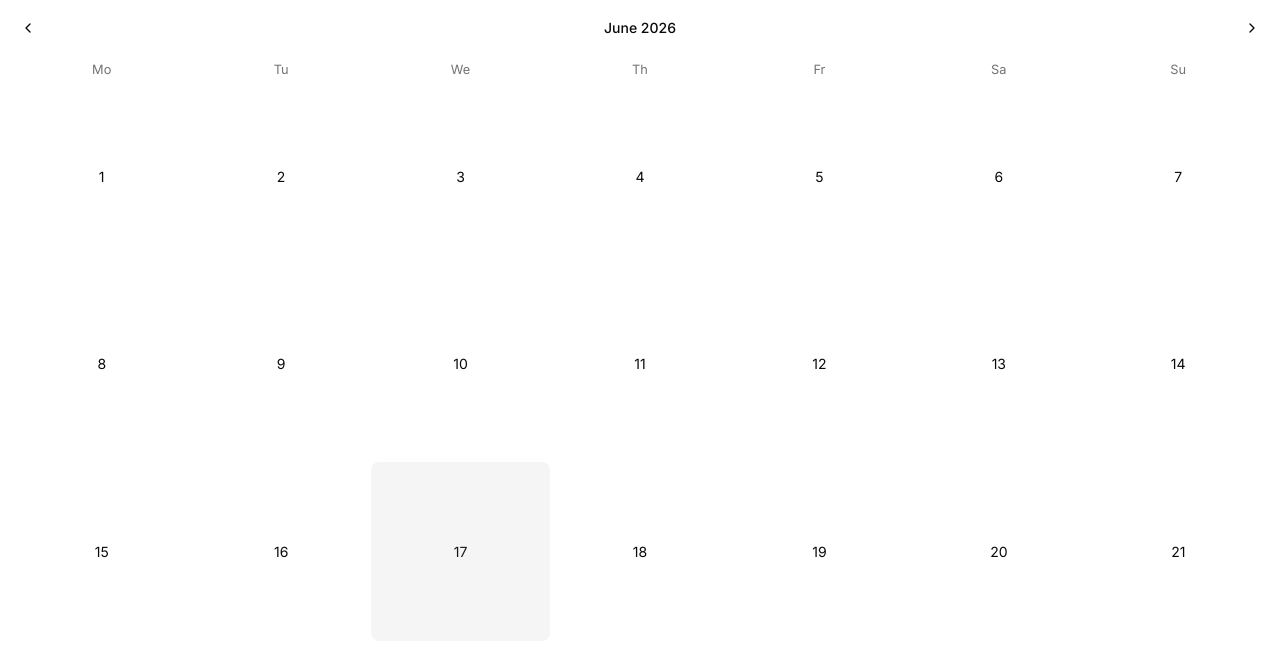
<MonthNavigator /> › navigates months with the labelled prev/next buttons
Click the button named "Previous month". click: (28, 28)
box: [12,12,44,44]
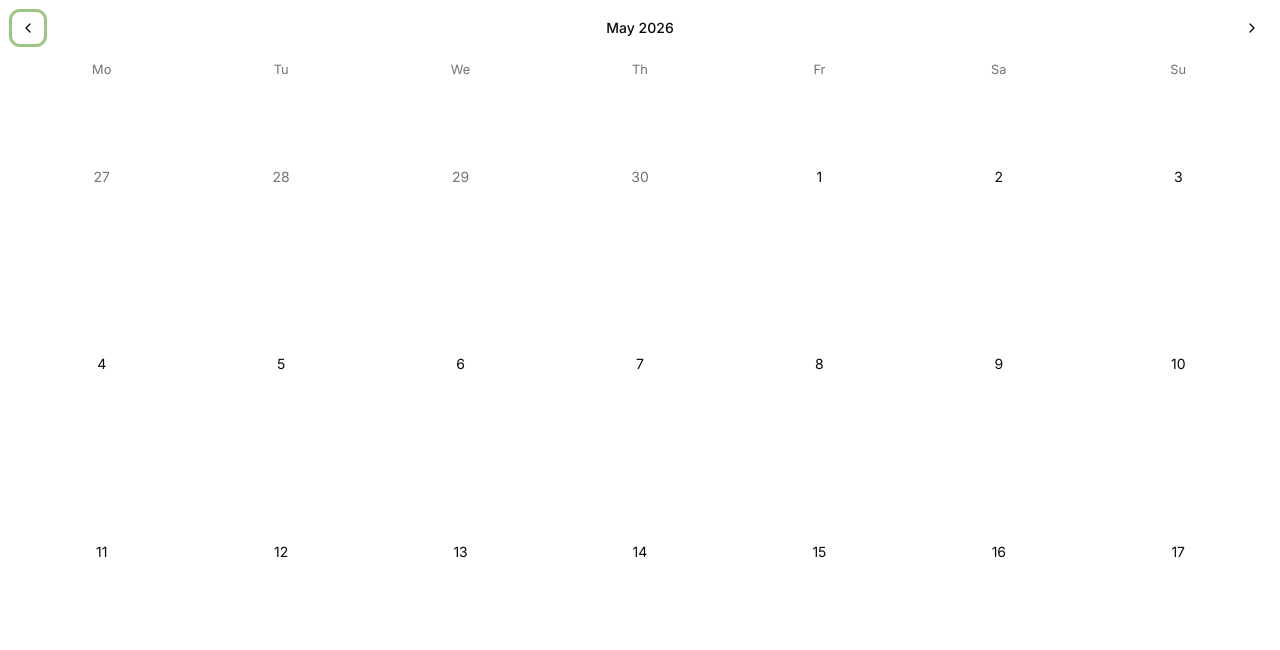
Expected: the heading "May 2026" is shown, [606,18,674,38]
Click the button named "Next month". click: (1252, 28)
box: [1236,12,1268,44]
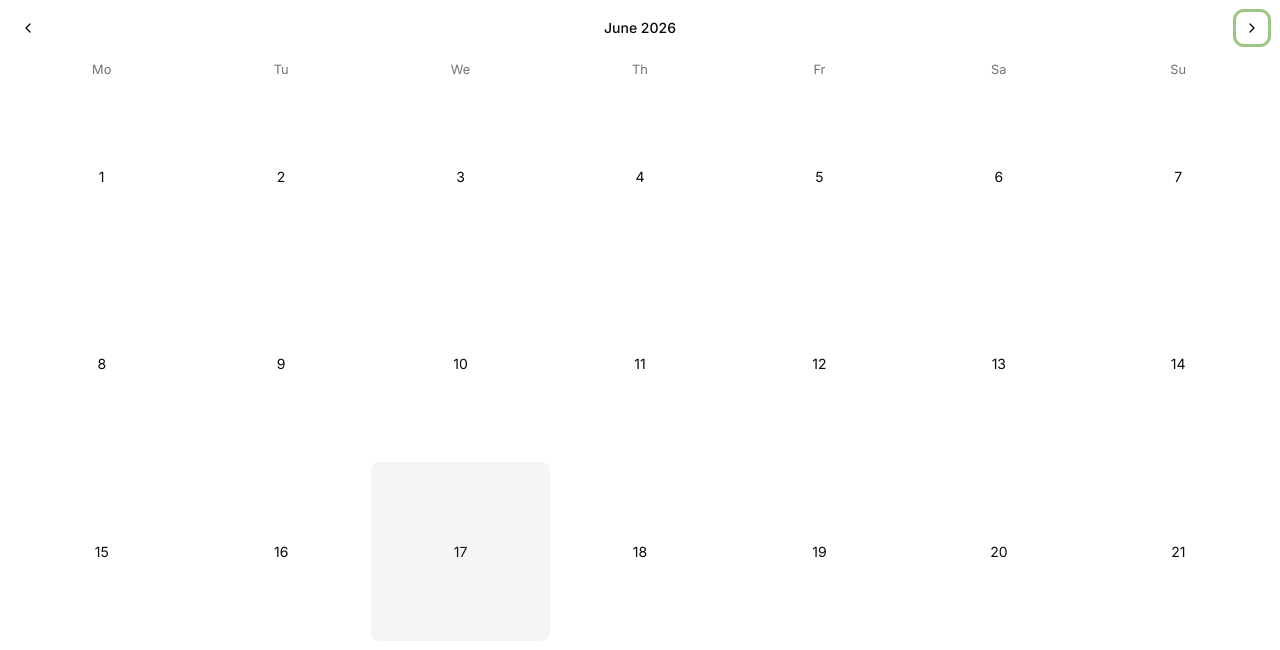
Click the button named "Next month". click: (1252, 28)
box: [1236,12,1268,44]
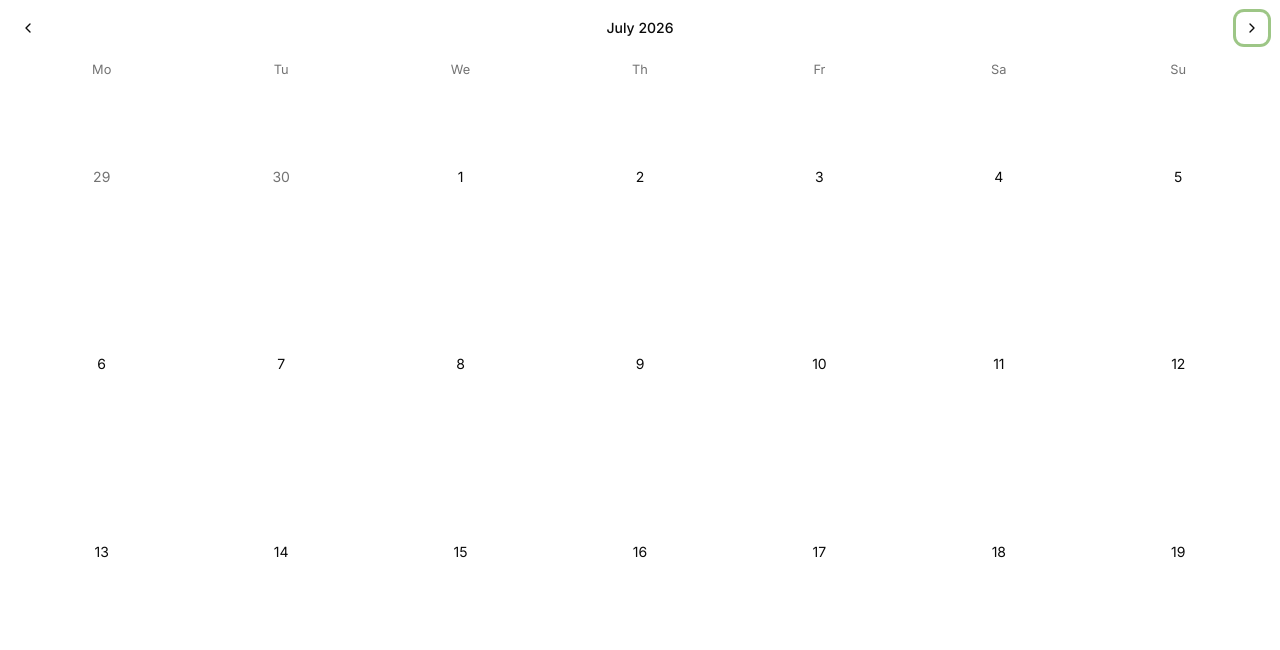
Expected: the heading "July 2026" is shown, [606,18,674,38]
